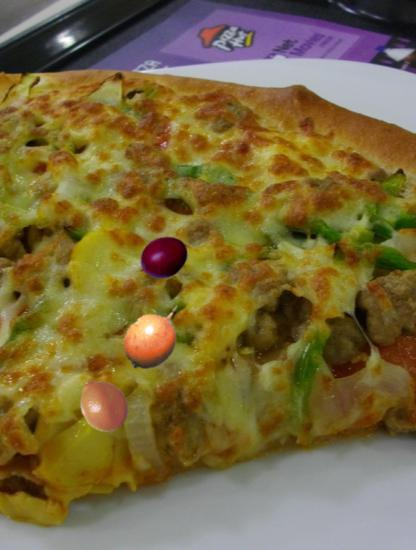Granadilla: (118, 299, 193, 374)
Tamarillo: (136, 232, 190, 286)
Tangelo: (76, 377, 131, 432)
